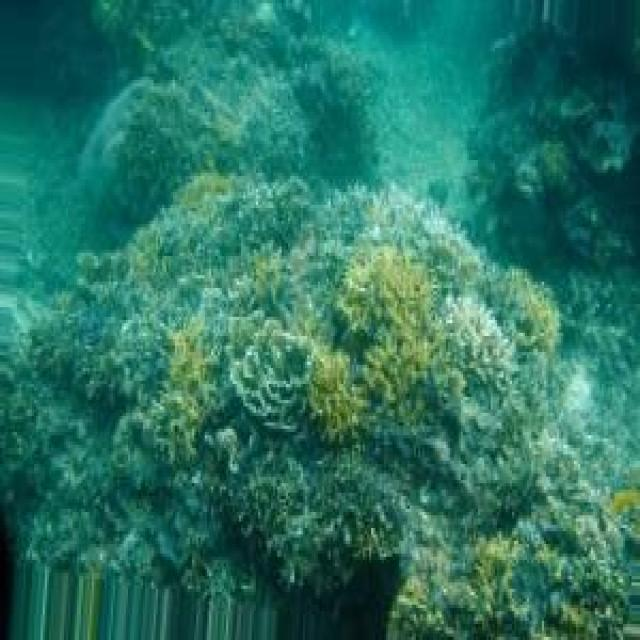healthy coral: (330, 246, 444, 428), (142, 317, 205, 466), (309, 351, 362, 442), (504, 270, 560, 353), (469, 536, 511, 638), (240, 250, 290, 318)
